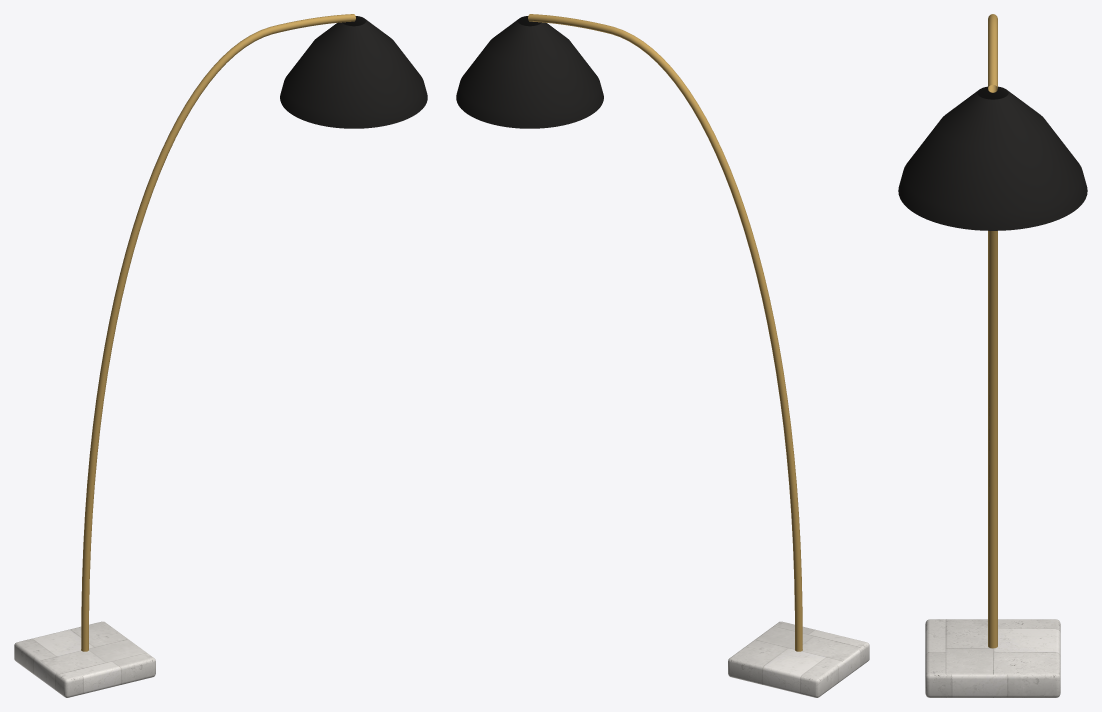
The model's file is lamp-arc.glb.
The picture shows the model from 3 angles, left to right: view 1: azimuth 30°, elevation 25°; view 2: azimuth 150°, elevation 25°; view 3: azimuth 270°, elevation 25°; orthographic projection. The views are drawn at different scales.
Visible parts, largest first — view 1: dome, base, arc; view 2: dome, base, arc; view 3: dome, base, arc.
Part boxes in pixels (box(x1,y1,x2,y2)): dome: box(280, 16, 427, 128); base: box(14, 621, 155, 697); arc: box(81, 14, 355, 651); dome: box(456, 16, 603, 128); base: box(728, 621, 869, 697); arc: box(528, 14, 802, 651); dome: box(898, 86, 1087, 230); base: box(925, 619, 1060, 697); arc: box(988, 14, 997, 648).
Bounding box in the file's own units: 1.24 × 1.87 × 0.42.
4 materials, 1 textured.
